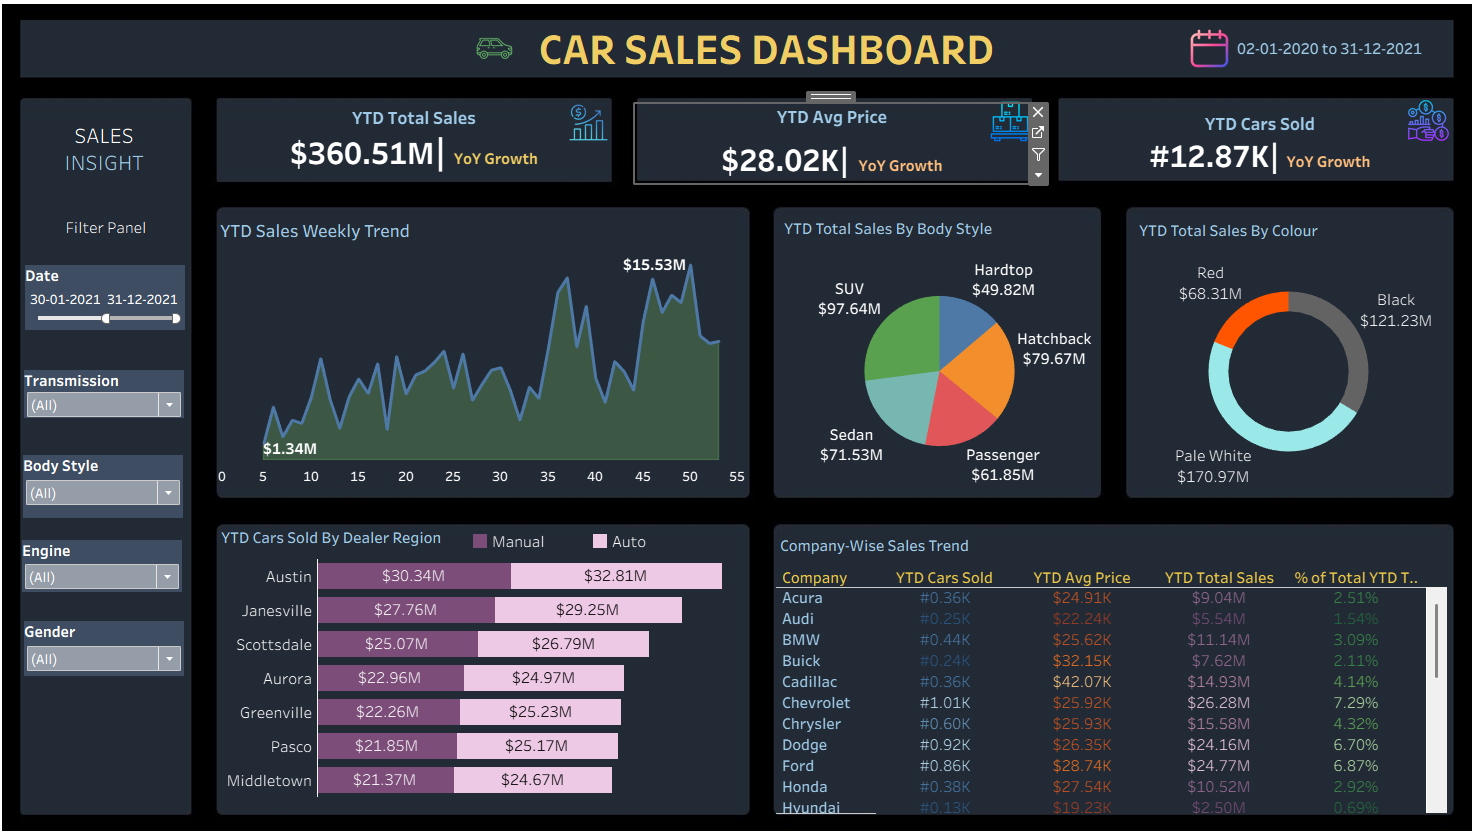

Layout of this report page (visuals, bound fields, positions):
{"tool":"tableau","page":{"name":"Dashboard 1","canvas":[1000,1000],"units":"permille","ordinal":0},"visuals":[{"type":"image","param":"C:/Users/aksha/OneDrive/Desktop/Car Sales Background.jpg","box":[4.9,9.4,990.3,981.2]},{"type":"text","box":[373.7,34.1,287.7,63.5]},{"type":"image","param":"C:/Users/aksha/OneDrive/Desktop/Car Icon.png","box":[340.4,41.1,25.4,50.5]},{"type":"image","param":"C:/Users/aksha/OneDrive/Desktop/calendar.png","box":[771.9,41.1,25.4,50.5]},{"type":"worksheet","title":"Sheet 9","mark":"Automatic","box":[794.8,54.1,127.9,28.2]},{"type":"worksheet","title":"YTD Total Sales","mark":"Automatic","box":[186.5,124.6,236,97.5]},{"type":"image","param":"C:/Users/aksha/OneDrive/Desktop/Cars Sold Icon.png","box":[904,125.7,25.4,50.5]},{"type":"image","param":"C:/Users/aksha/OneDrive/Desktop/Avg Price Icon.png","box":[651.8,126.9,25.4,50.5]},{"type":"image","param":"C:/Users/aksha/OneDrive/Desktop/Sales Icon.png","box":[397.1,128.1,25.4,50.5]},{"type":"worksheet","title":"YTD Avg Price","mark":"Automatic","box":[438.1,131.6,237.2,92.8]},{"type":"worksheet","title":"YTD Cars Sold ","mark":"Automatic","box":[694,132.8,242,90.5]},{"type":"text","box":[83.3,143.4,68.8,82.3]},{"type":"text","box":[84.5,258.5,68.8,35.2]},{"type":"worksheet","title":"YTD Sales Weekly Trend","mark":"Area","rows":["Calculation_1526999832674304","Calculation_1526999832674304"],"cols":["Date"],"box":[185.3,260.9,320.5,324.3]},{"type":"worksheet","title":"YTD Total Sales By Body Style","mark":"Pie","box":[525.6,260.9,192.5,326.7]},{"type":"worksheet","title":"YTD Total Sales By Colour","mark":"Pie","rows":["Calculation_1527000528293901","Calculation_1527000528687119"],"box":[739.9,263.2,185.3,323.2]},{"type":"filter","title":"YTD Sales Weekly Trend","param":"[federated.1ekc0or1ob19g717xdur60e0uz8l].[none:Date:qk]","box":[70,320.8,96.6,76.4]},{"type":"filter","title":"YTD Sales Weekly Trend","param":"[federated.1ekc0or1ob19g717xdur60e0uz8l].[none:Transmission:nk]","box":[69.4,444.2,96.6,56.4]},{"type":"filter","title":"YTD Sales Weekly Trend","param":"[federated.1ekc0or1ob19g717xdur60e0uz8l].[none:Body Style:nk]","box":[68.8,544.1,96.6,74]},{"type":"worksheet","title":"YTD Cars Sold By Dealer Region","mark":"Automatic","rows":["Dealer_Region"],"cols":["Calculation_1526999832674304"],"box":[185.9,624,316.8,322]},{"type":"legend","title":"YTD Cars Sold By Dealer Region","param":"[federated.1ekc0or1ob19g717xdur60e0uz8l].[none:Transmission:nk]","box":[338.6,633.4,159.3,32.9]},{"type":"worksheet","title":"Company-Wise Sales Trend","mark":"Automatic","rows":["Company"],"box":[523.2,633.4,404.9,332.6]},{"type":"filter","title":"YTD Sales Weekly Trend","param":"[federated.1ekc0or1ob19g717xdur60e0uz8l].[none:Engine:nk]","box":[68.2,644,96.6,61.1]},{"type":"filter","title":"YTD Sales Weekly Trend","param":"[federated.1ekc0or1ob19g717xdur60e0uz8l].[none:Gender:nk]","box":[69.4,739.1,96.6,64.6]}]}

Visuals, with their boxes on the dashboard's canvas, which has no fixed pixel size, in thousandths of its width and height (x1, y1, x2, y2). These are canvas units, not pixel positions in the 1473x833 screenshot, which may show the page scaled, cropped or inside an application window:
image: left=5, top=9, right=995, bottom=991
text: left=374, top=34, right=661, bottom=98
image: left=340, top=41, right=366, bottom=92
image: left=772, top=41, right=797, bottom=92
"Sheet 9" worksheet: left=795, top=54, right=923, bottom=82
"YTD Total Sales" worksheet: left=186, top=125, right=422, bottom=222
image: left=904, top=126, right=929, bottom=176
image: left=652, top=127, right=677, bottom=177
image: left=397, top=128, right=422, bottom=179
"YTD Avg Price" worksheet: left=438, top=132, right=675, bottom=224
"YTD Cars Sold " worksheet: left=694, top=133, right=936, bottom=223
text: left=83, top=143, right=152, bottom=226
text: left=84, top=258, right=153, bottom=294
"YTD Sales Weekly Trend" worksheet (Area marks): left=185, top=261, right=506, bottom=585
"YTD Total Sales By Body Style" worksheet (Pie marks): left=526, top=261, right=718, bottom=588
"YTD Total Sales By Colour" worksheet (Pie marks): left=740, top=263, right=925, bottom=586
"YTD Sales Weekly Trend" filter: left=70, top=321, right=167, bottom=397
"YTD Sales Weekly Trend" filter: left=69, top=444, right=166, bottom=501
"YTD Sales Weekly Trend" filter: left=69, top=544, right=165, bottom=618
"YTD Cars Sold By Dealer Region" worksheet: left=186, top=624, right=503, bottom=946
"YTD Cars Sold By Dealer Region" legend: left=339, top=633, right=498, bottom=666
"Company-Wise Sales Trend" worksheet: left=523, top=633, right=928, bottom=966
"YTD Sales Weekly Trend" filter: left=68, top=644, right=165, bottom=705
"YTD Sales Weekly Trend" filter: left=69, top=739, right=166, bottom=804
